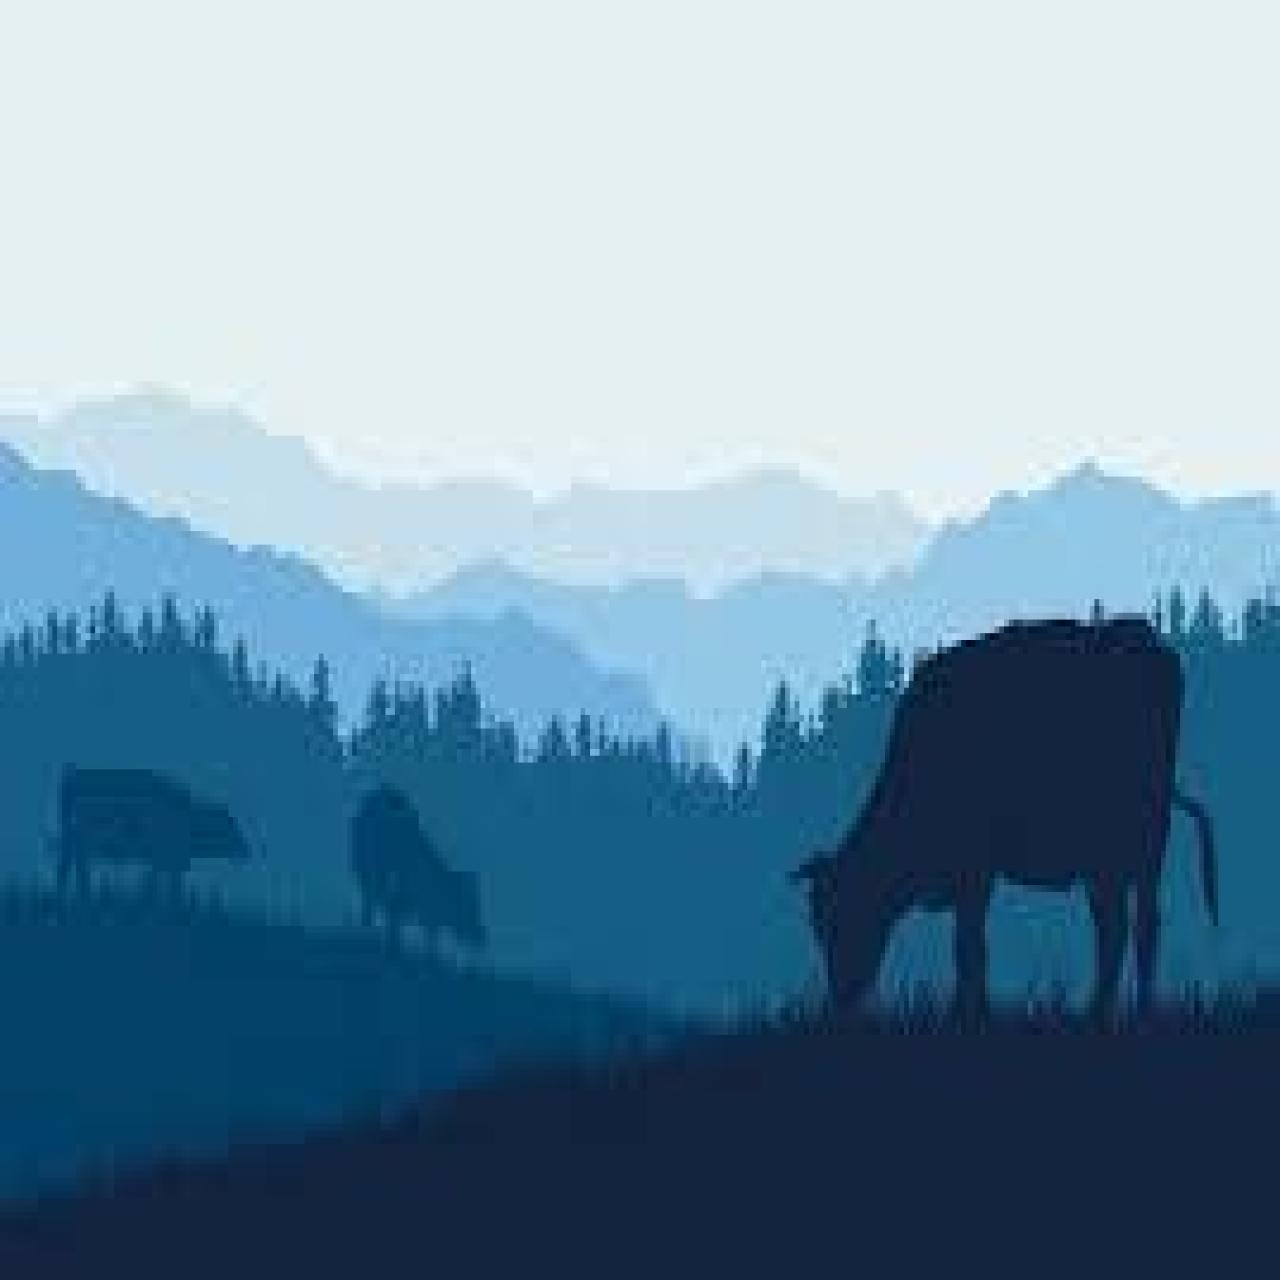cow: (804, 617, 1185, 1039), (53, 772, 261, 922), (347, 790, 490, 974)
